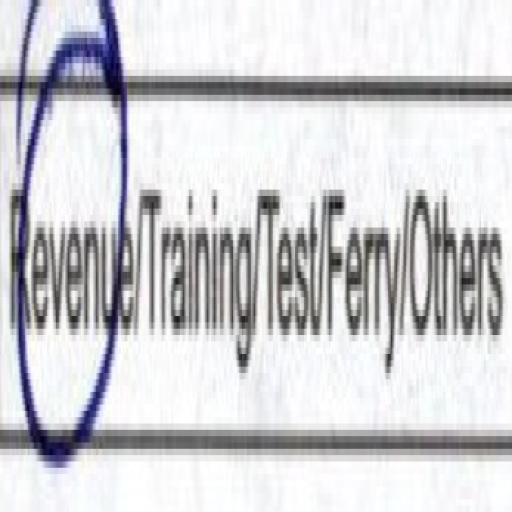check: (0, 0, 136, 468)
